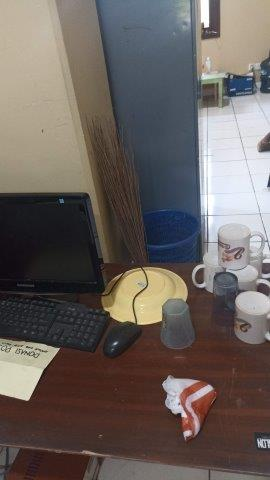plastik: (165, 377, 218, 440)
